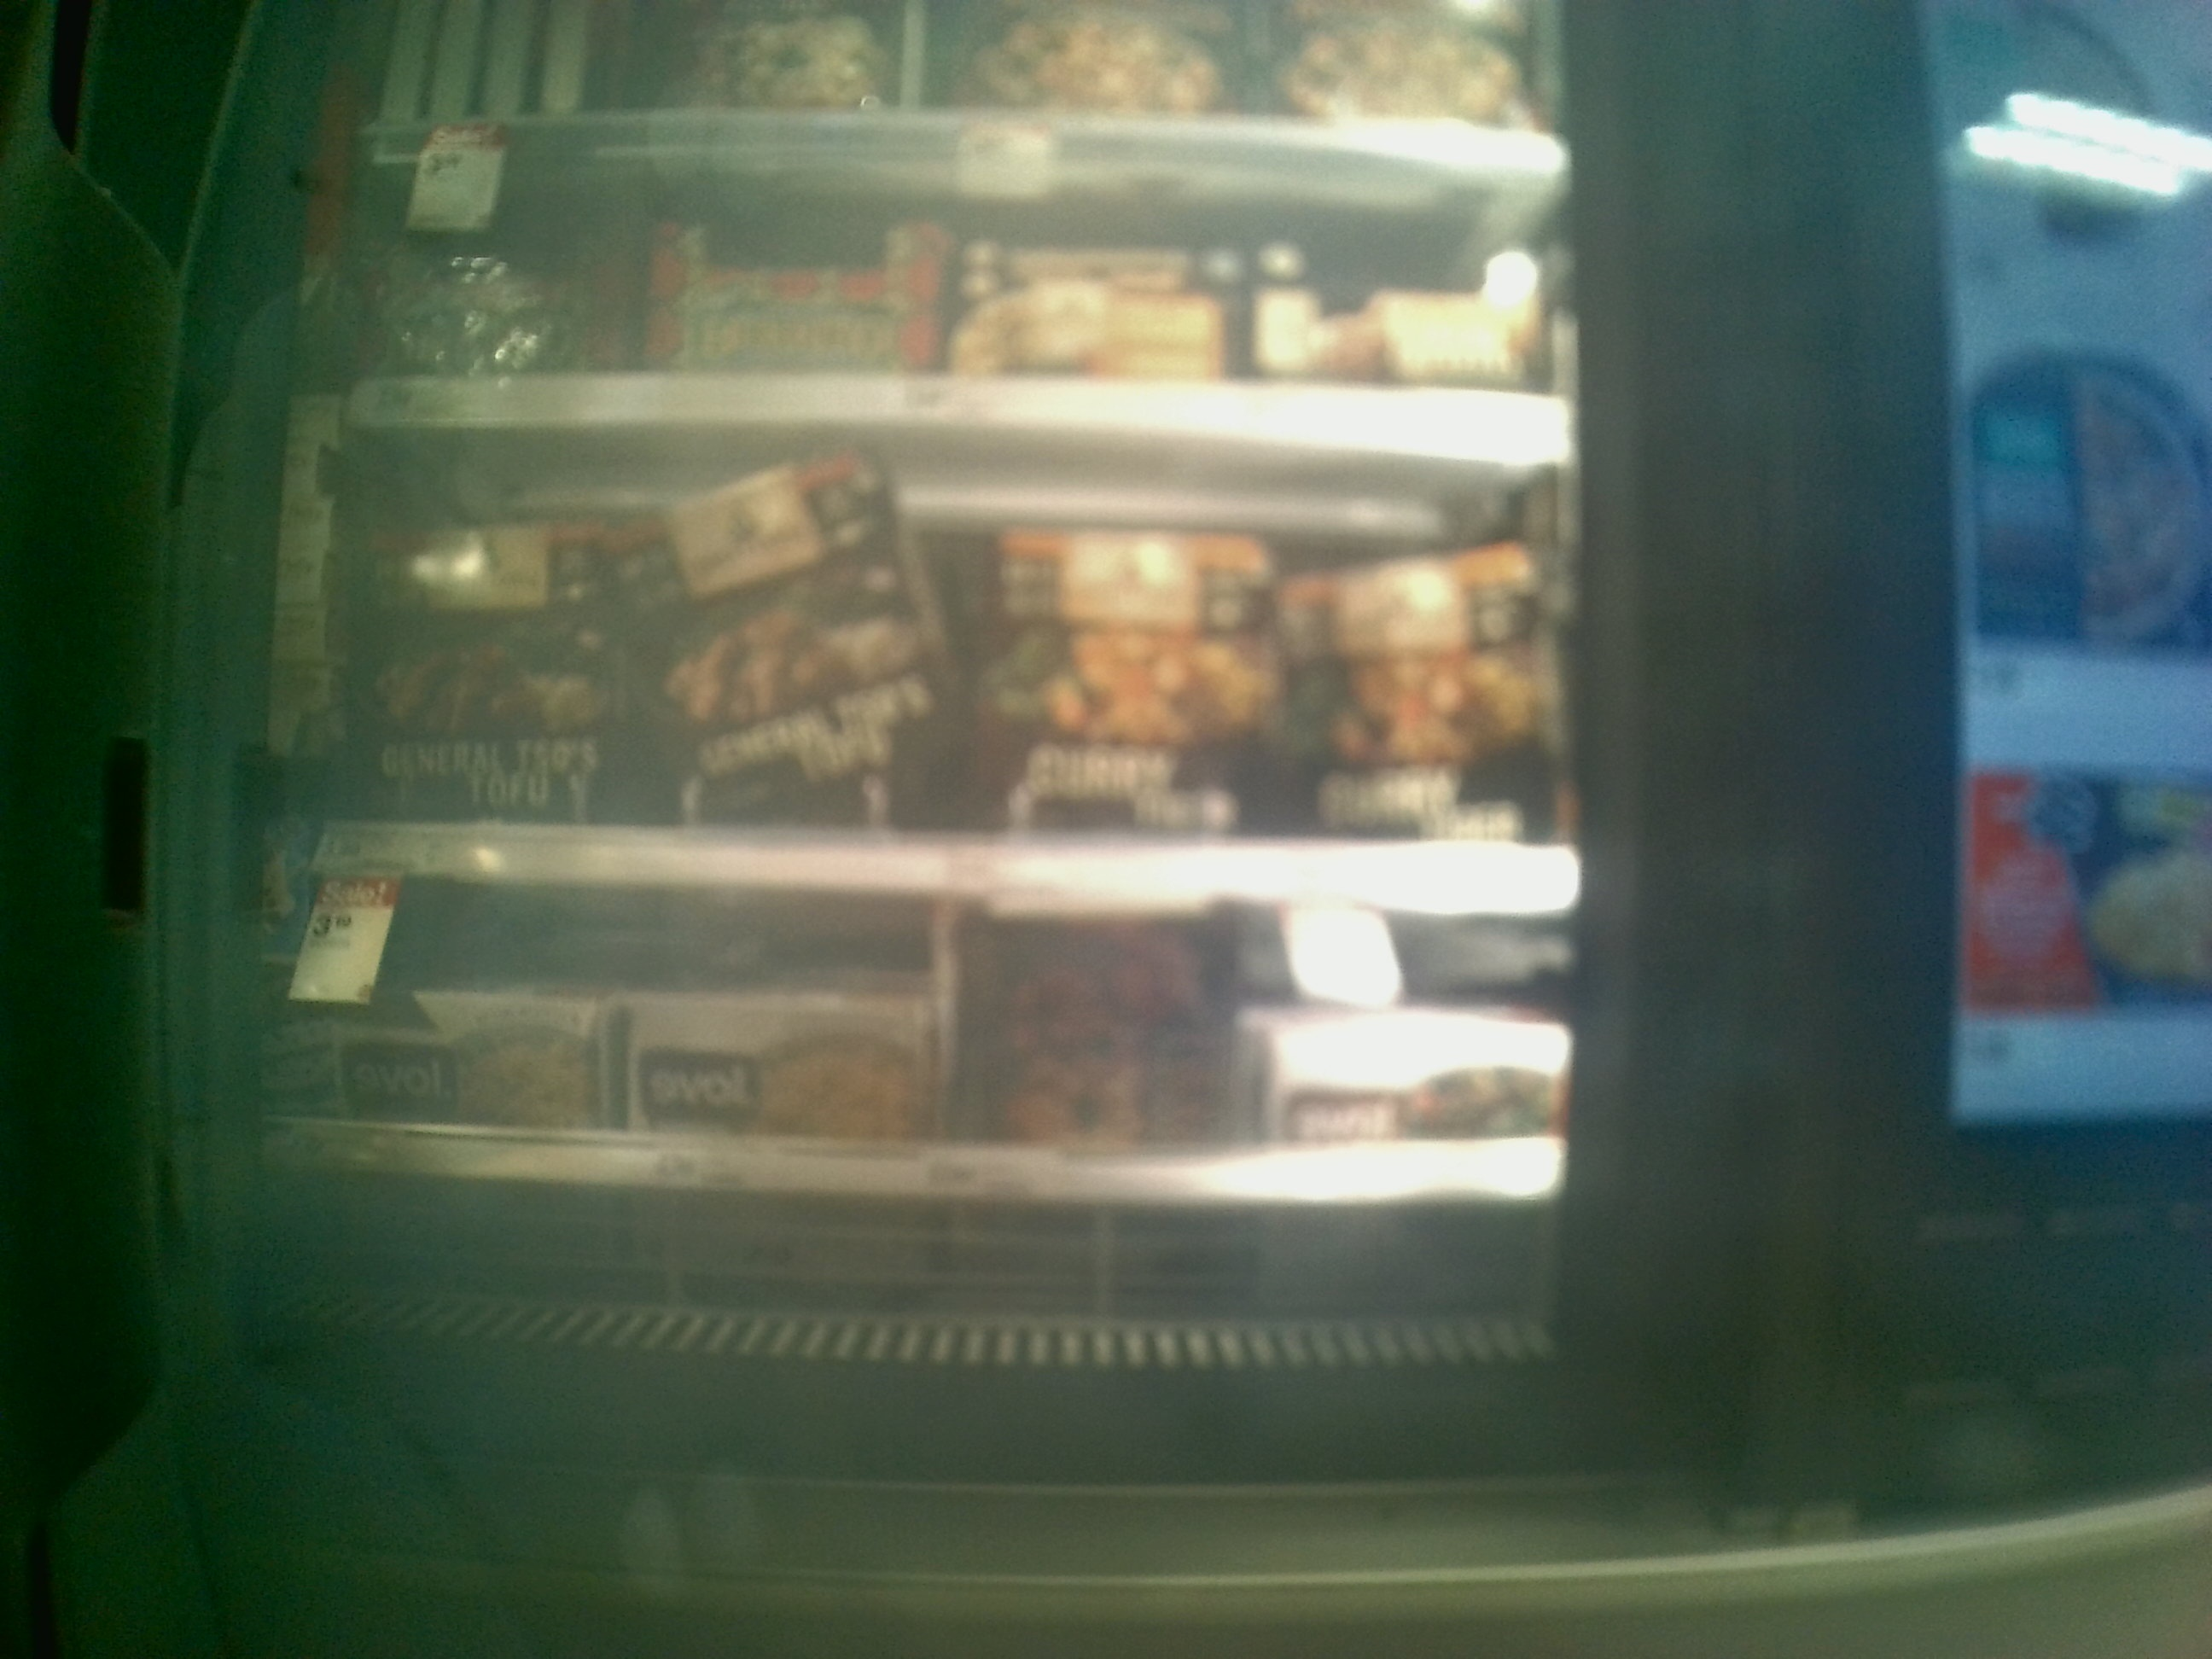frozen-food-shelf: (289, 477, 1590, 917), (251, 899, 1583, 1230)
